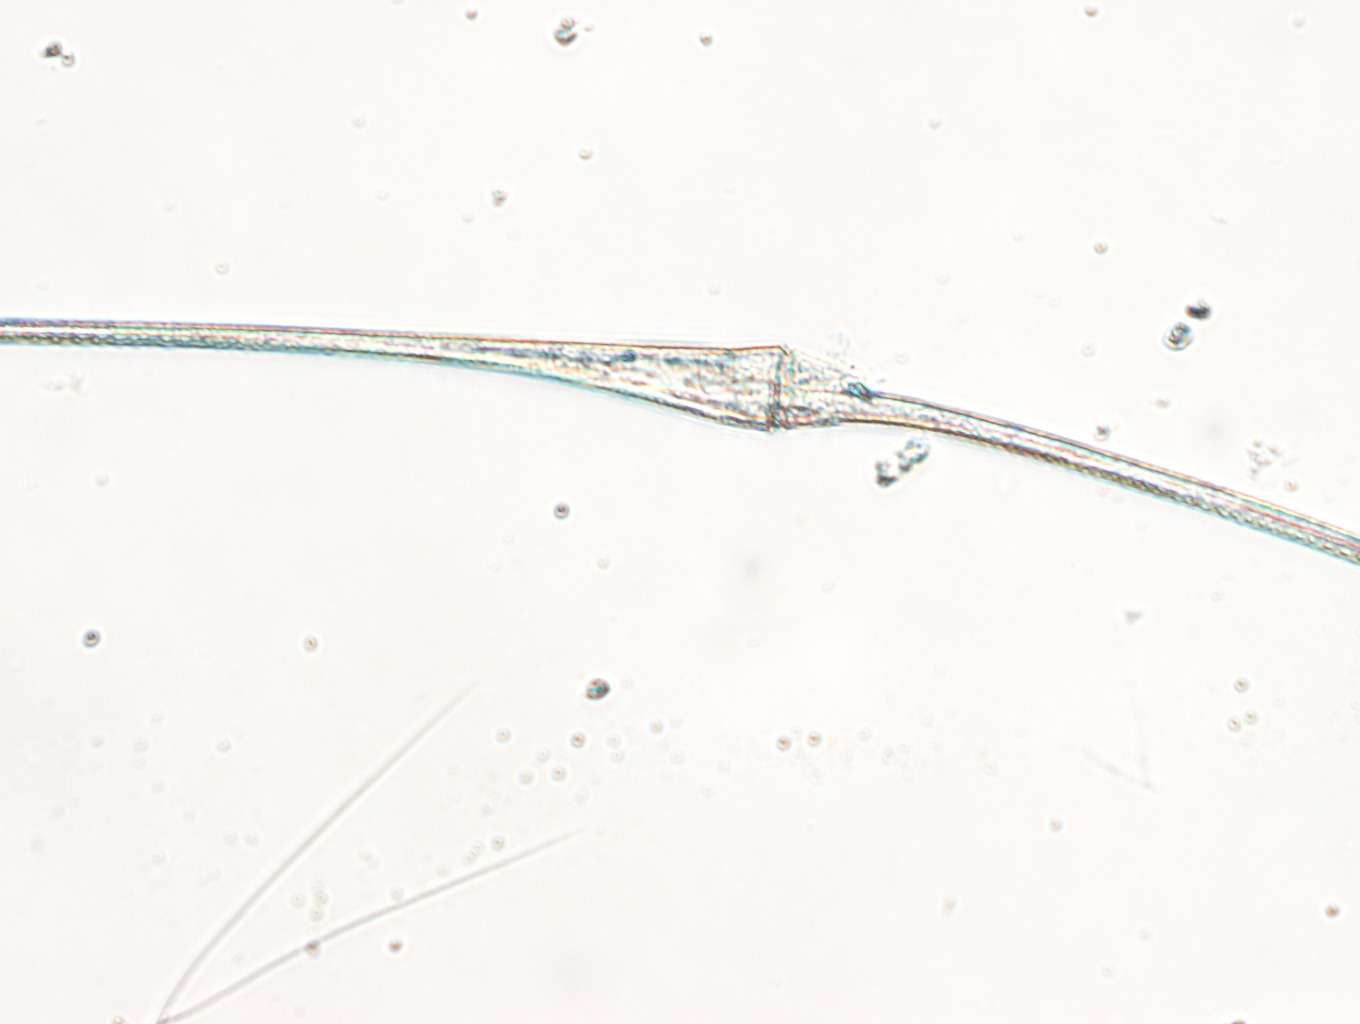ceratium fusus: (1, 313, 1360, 577)
